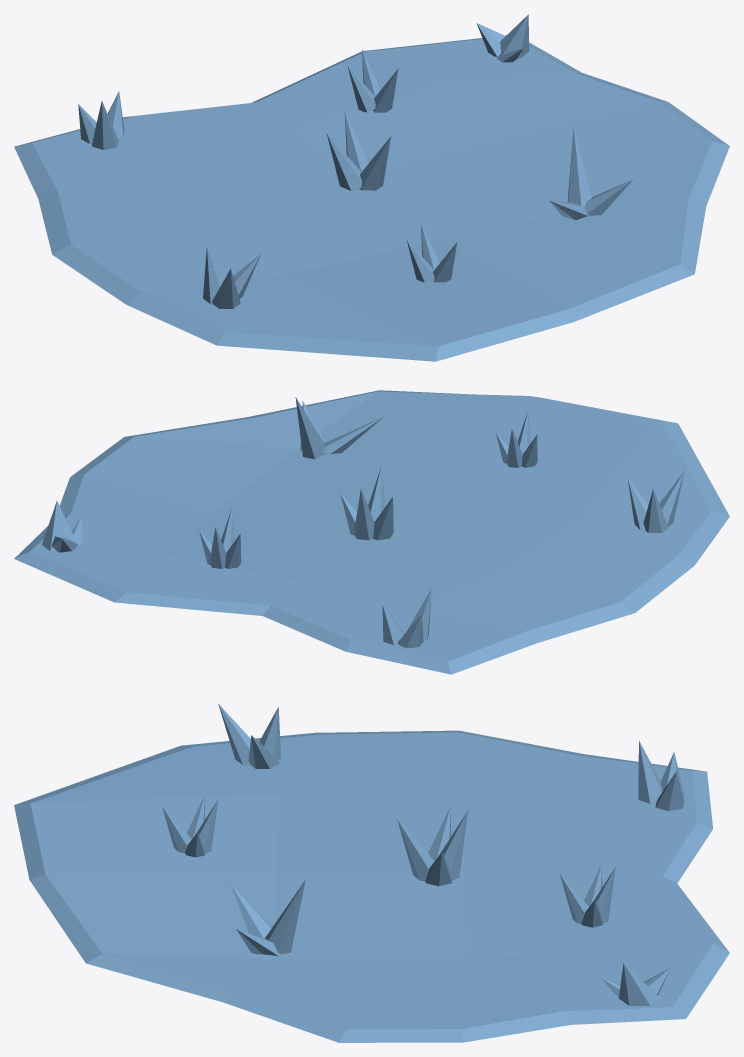
Rendered from ice_puddle.fbx.
3 views of the same model, one above another, from view 1: azimuth 30°, elevation 25°; view 2: azimuth 150°, elevation 25°; view 3: azimuth 270°, elevation 25° (orthographic). The views are drawn at different scales.
Parts seen in each view (by area): view 1: Ice_puddle; view 2: Ice_puddle; view 3: Ice_puddle.
Boxes of the visible parts, <box> form: Ice_puddle: <box>14,14,729,361</box>; Ice_puddle: <box>14,390,729,674</box>; Ice_puddle: <box>14,703,729,1042</box>.
Bounding box in the file's own units: 0.6101 × 0.0709 × 0.591.
